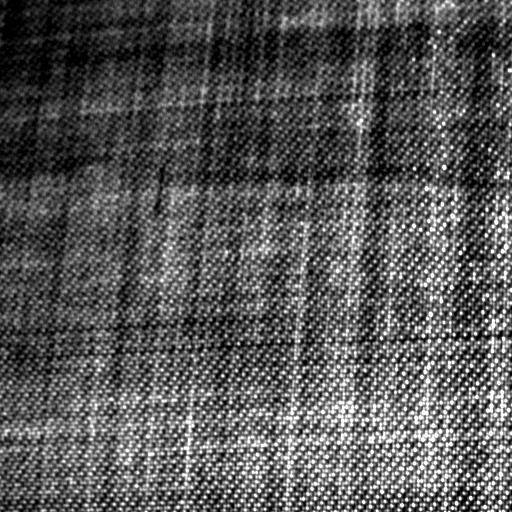fabric_perfect: (0, 2, 508, 510)
